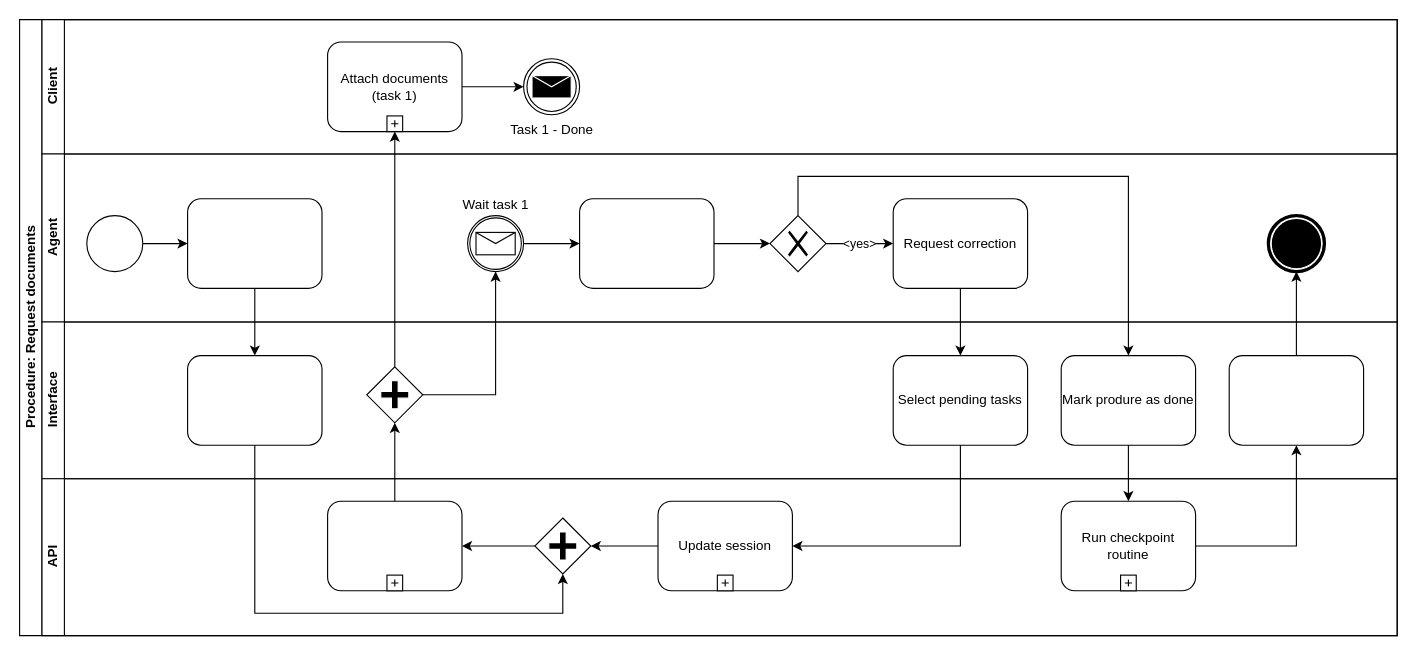
Image size: 1417x655. Some labels were removed from this diagram. Here are the shapes that lost their labels. From the top down, the centre of each, then its label:
the point at 254,243: Initialize procedure
the point at 646,243: Validate documents
the point at 797,243: Issues?
the point at 254,399: Start procedure from template
the point at 1296,399: Display completion overview
the point at 394,545: Create session
